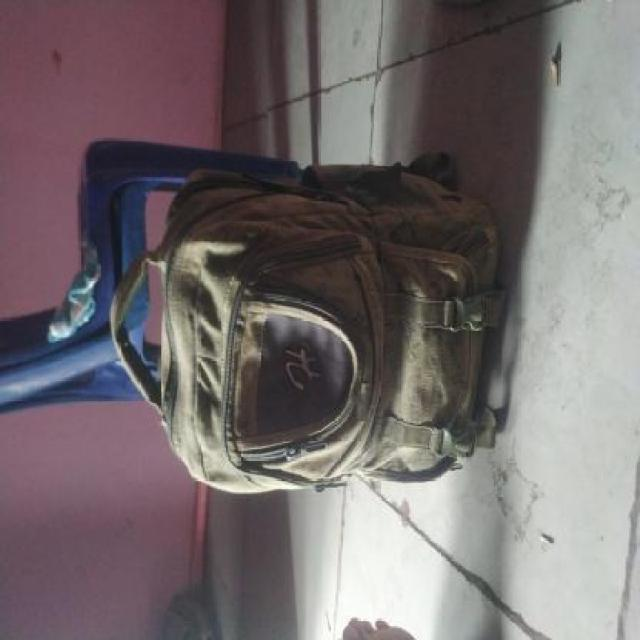backpack: (103, 146, 514, 499)
